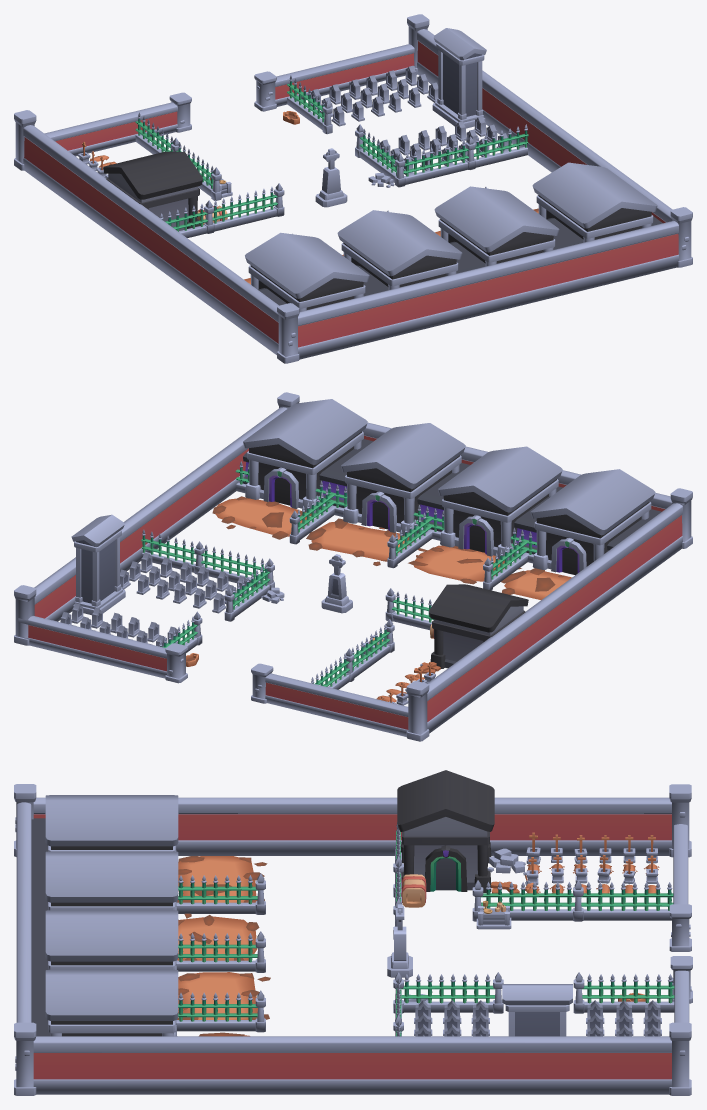
File: Lobby02.glb
The picture shows the model from 3 angles, top to bottom: view 1: azimuth 30°, elevation 25°; view 2: azimuth 150°, elevation 25°; view 3: azimuth 270°, elevation 25°; orthographic projection. The views are drawn at different scales.
Visible parts, largest first — view 1: brick-wall-end.001, brick-wall-end.008, gravestone-wide.006, gravestone-wide.001, gravestone-wide.003, gravestone-wide.002, brick-wall-end.002, gravestone-wide.004, brick-wall-end.004, crypt.002, brick-wall-end.003, pillar-small.007 (+13 smaller); view 2: brick-wall-end.008, gravestone-wide.001, gravestone-wide.006, gravestone-wide.002, gravestone-wide.003, brick-wall-end.002, brick-wall-end.004, gravestone-wide.004, brick-wall-end.003, crypt.002, stone-wall.001, grave.002 (+19 smaller); view 3: brick-wall-end.002, brick-wall-end.008, gravestone-wide.004, gravestone-wide.006, gravestone-wide.002, gravestone-wide.001, gravestone-wide.003, brick-wall-end.001, crypt.002, stone-wall.001, pillar-small.013, grave.002 (+18 smaller).
Boxes of the visible parts, left/top/right/bottom form: brick-wall-end.001: left=298, top=220, right=678, bottom=359; brick-wall-end.008: left=23, top=125, right=278, bottom=354; gravestone-wide.006: left=532, top=162, right=657, bottom=242; gravestone-wide.001: left=434, top=186, right=559, bottom=266; gravestone-wide.003: left=245, top=232, right=369, bottom=311; gravestone-wide.002: left=337, top=210, right=462, bottom=289; brick-wall-end.002: left=417, top=29, right=672, bottom=223; gravestone-wide.004: left=103, top=151, right=202, bottom=230; brick-wall-end.004: left=254, top=44, right=414, bottom=111; crypt.002: left=432, top=28, right=486, bottom=128; brick-wall-end.003: left=44, top=92, right=191, bottom=156; pillar-small.007: left=395, top=139, right=468, bottom=187; brick-wall-end.008: left=427, top=503, right=682, bottom=733; gravestone-wide.001: left=341, top=423, right=465, bottom=537; gravestone-wide.006: left=243, top=399, right=367, bottom=513; gravestone-wide.002: left=438, top=446, right=562, bottom=560; gravestone-wide.003: left=530, top=469, right=655, bottom=574; brick-wall-end.002: left=34, top=407, right=287, bottom=621; brick-wall-end.004: left=18, top=616, right=187, bottom=683; gravestone-wide.004: left=429, top=584, right=528, bottom=668; brick-wall-end.003: left=251, top=663, right=408, bottom=736; crypt.002: left=71, top=514, right=125, bottom=615; stone-wall.001: left=242, top=439, right=661, bottom=554; grave.002: left=306, top=518, right=413, bottom=565; brick-wall-end.002: left=33, top=1036, right=671, bottom=1094; brick-wall-end.008: left=33, top=797, right=671, bottom=855; gravestone-wide.004: left=397, top=770, right=494, bottom=892; gravestone-wide.006: left=45, top=969, right=178, bottom=1036; gravestone-wide.002: left=45, top=851, right=178, bottom=960; gravestone-wide.001: left=45, top=910, right=178, bottom=1019; gravestone-wide.003: left=45, top=795, right=178, bottom=902; brick-wall-end.001: left=16, top=802, right=31, bottom=1022; crypt.002: left=502, top=984, right=572, bottom=1036; stone-wall.001: left=31, top=818, right=50, bottom=1036; pillar-small.013: left=573, top=880, right=673, bottom=921; grave.002: left=177, top=972, right=270, bottom=1019.
Size of what is drawn, in the model's own units: 47.78 by 8.82 by 55.25.
Materials: 2 (2 with a texture image).
